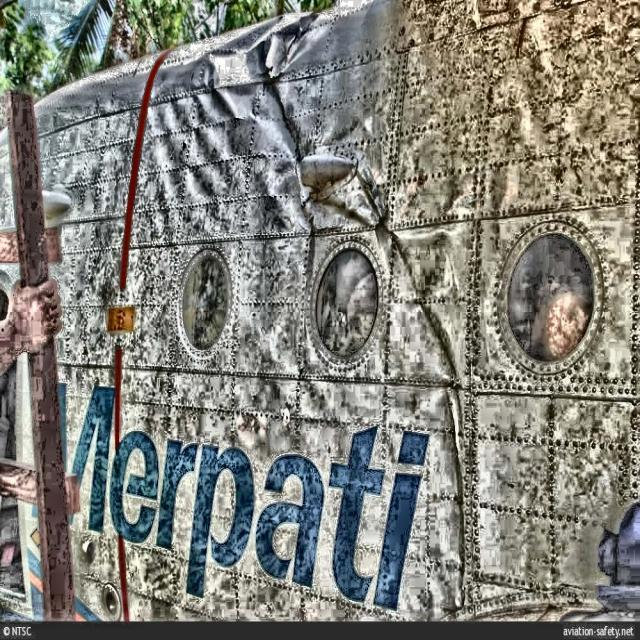dent: (209, 11, 338, 133)
